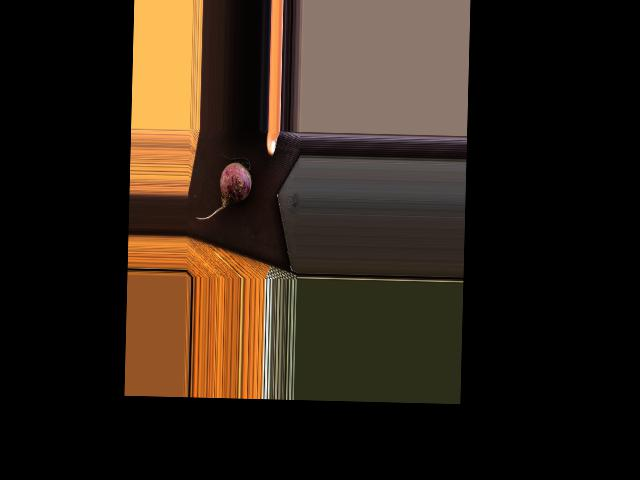beet: (196, 151, 252, 221)
